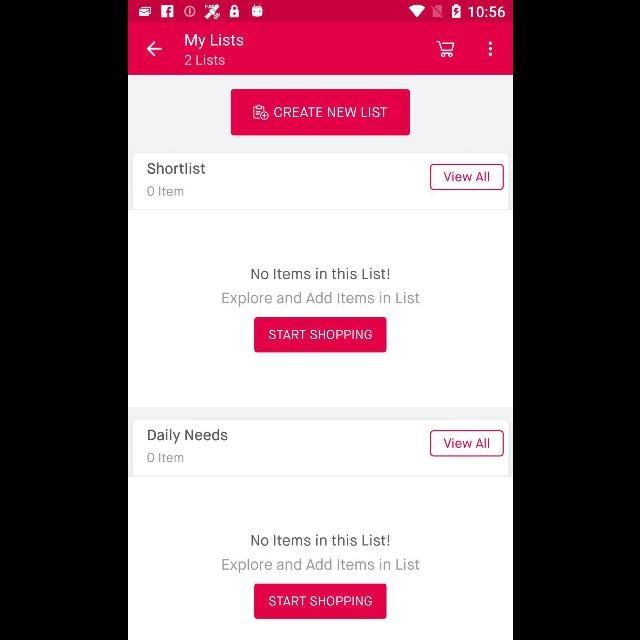icon: (436, 41, 454, 58), (145, 42, 161, 56), (488, 42, 492, 56)
text: (222, 558, 418, 574), (222, 292, 418, 306), (251, 534, 389, 546), (251, 268, 389, 280), (147, 428, 227, 444), (185, 34, 243, 50), (147, 162, 205, 174), (184, 54, 224, 66), (147, 453, 183, 463), (147, 186, 183, 196)
textbutton: (229, 90, 409, 136), (252, 583, 386, 619), (254, 317, 386, 353), (429, 429, 503, 456), (429, 163, 503, 190)
toolbar: (128, 24, 512, 76)
uppertaskbar: (128, 1, 512, 23)
